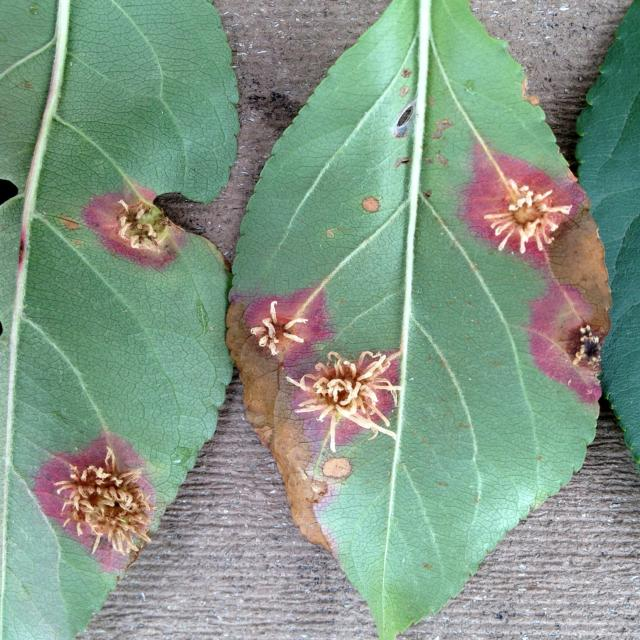Gymnosporangium_Rusts: (51, 113, 610, 512)
